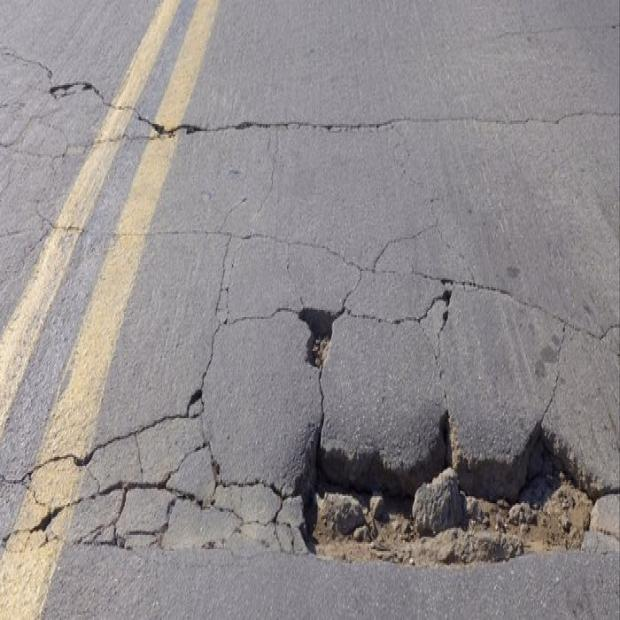lubang: (288, 415, 619, 563), (298, 299, 344, 367)
